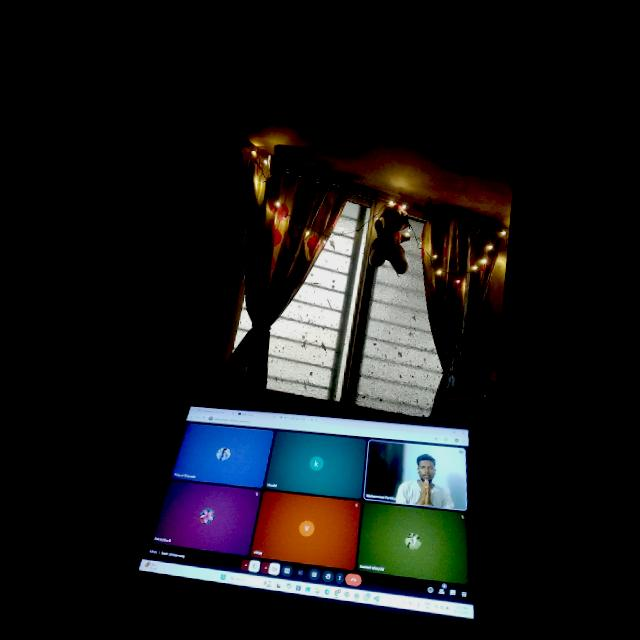laptop: (132, 374, 493, 640)
